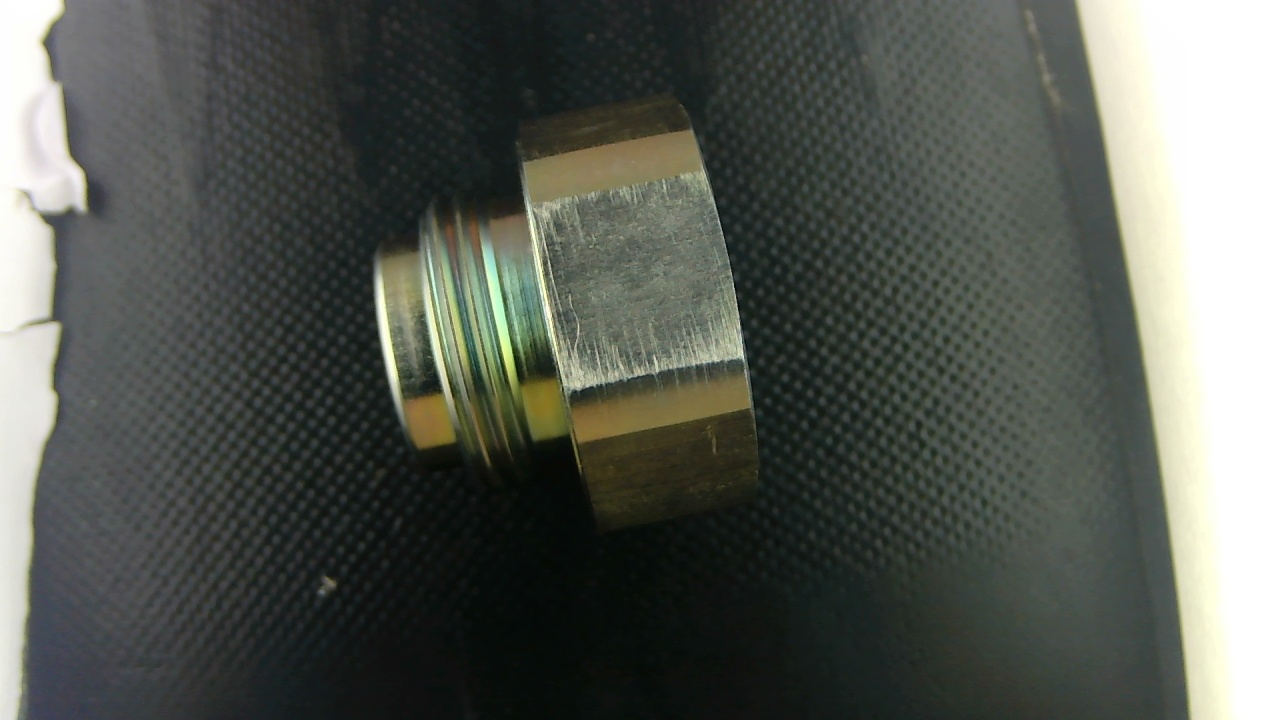Capnut_Okay: (374, 96, 757, 528)
